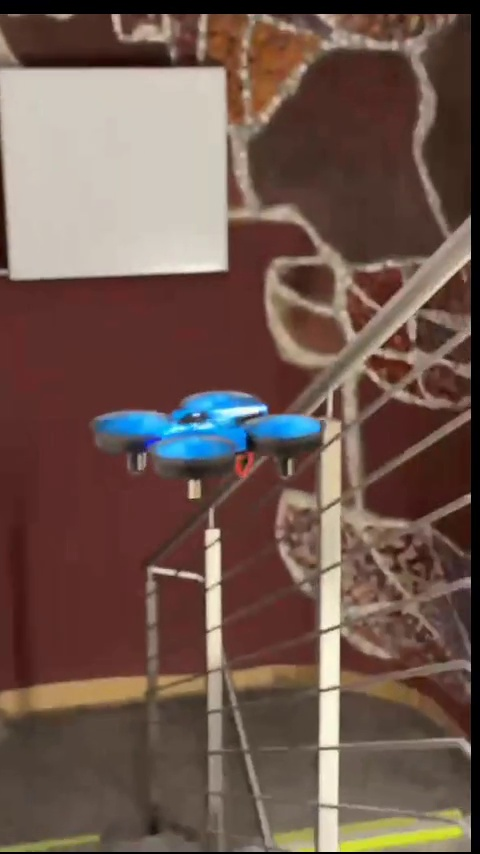drone: (99, 392, 317, 497)
